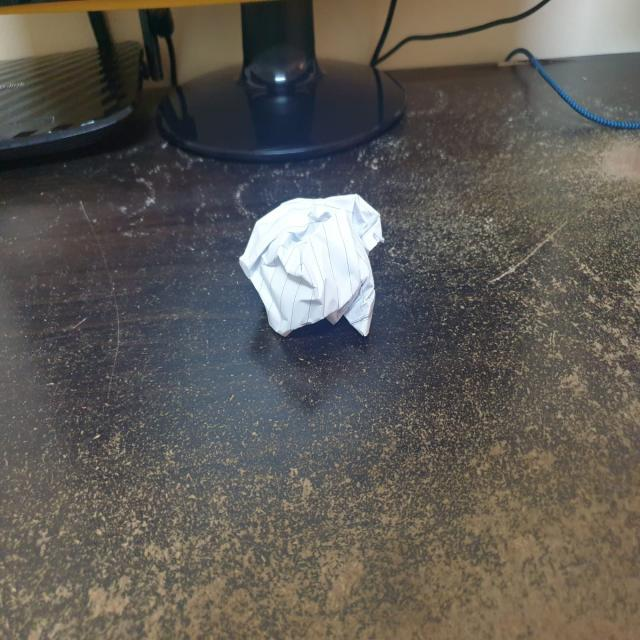Paper: (241, 193, 385, 337)
